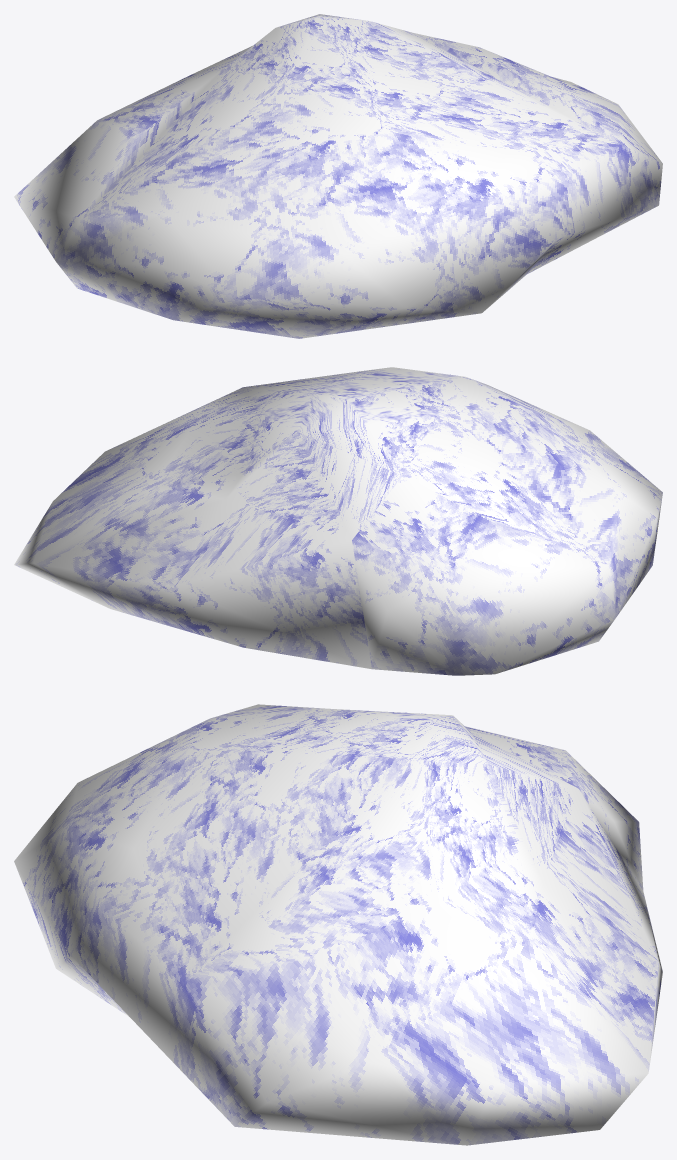
The model's file is kp_hanki.glb.
3 views of the same model, one above another, from view 1: azimuth 30°, elevation 25°; view 2: azimuth 150°, elevation 25°; view 3: azimuth 270°, elevation 25° (orthographic). The views are drawn at different scales.
Visible parts, largest first — view 1: SNOWPILE.003-col; view 2: SNOWPILE.003-col; view 3: SNOWPILE.003-col.
Part boxes in pixels (bbox=[...]): SNOWPILE.003-col: bbox=[14, 14, 662, 338]; SNOWPILE.003-col: bbox=[14, 367, 662, 675]; SNOWPILE.003-col: bbox=[14, 704, 662, 1145].
Bounding box in the file's own units: 8.01 × 2.99 × 6.43.
Materials: 1 (1 with a texture image).
